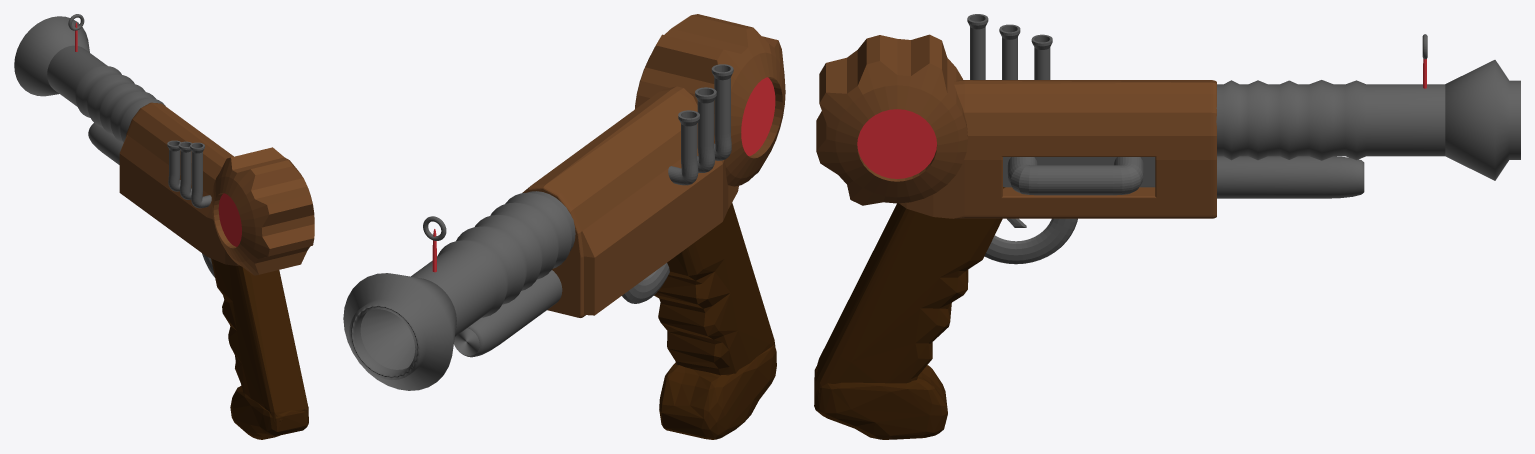
File: gun.fbx
3 views of the same model, side by side, from view 1: azimuth 30°, elevation 25°; view 2: azimuth 150°, elevation 25°; view 3: azimuth 270°, elevation 25° (orthographic). The views are drawn at different scales.
Parts seen in each view (by area): view 1: barrel.001; view 2: barrel.001; view 3: barrel.001.
Part boxes in pixels (x1,y1,x2,y2): barrel.001: [14, 14, 314, 439]; barrel.001: [343, 14, 785, 439]; barrel.001: [814, 14, 1520, 439].
Size of the model in its own units: 67.14 by 206 by 333.
